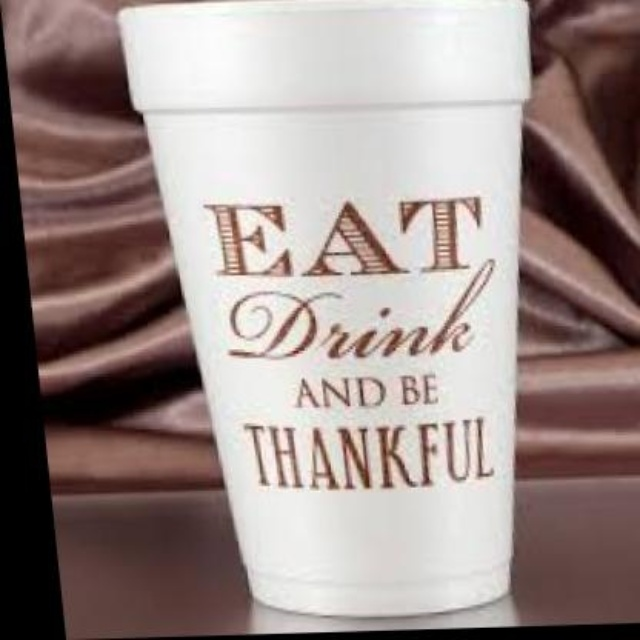trash: (118, 0, 528, 615)
